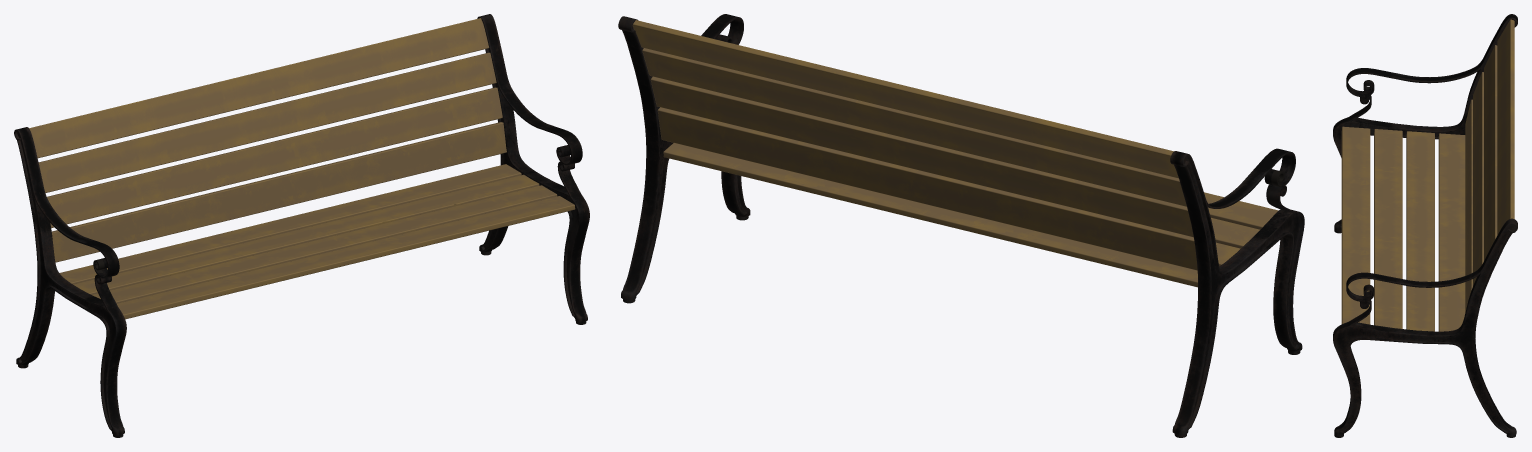
3 renders of one model, left to right at view 1: azimuth 30°, elevation 25°; view 2: azimuth 150°, elevation 25°; view 3: azimuth 270°, elevation 25°, orthographic. The views are drawn at different scales.
Parts seen in each view (by area): view 1: Bench_01_0; view 2: Bench_01_0; view 3: Bench_01_0.
Boxes of the visible parts, box(x1,y1,x2,y2) form: Bench_01_0: box(14, 14, 589, 437); Bench_01_0: box(618, 14, 1304, 437); Bench_01_0: box(1333, 14, 1517, 437).
Bounding box in the file's own units: 1.69 × 0.8099 × 0.6308.
1 material, 1 textured.
